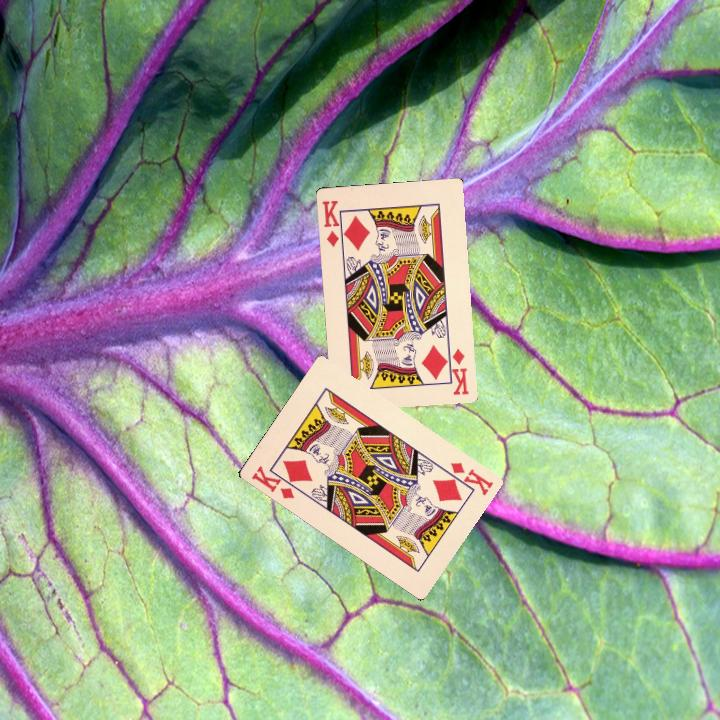Kd: (438, 458, 496, 498), (247, 461, 301, 501), (318, 196, 348, 248), (444, 341, 471, 398)
